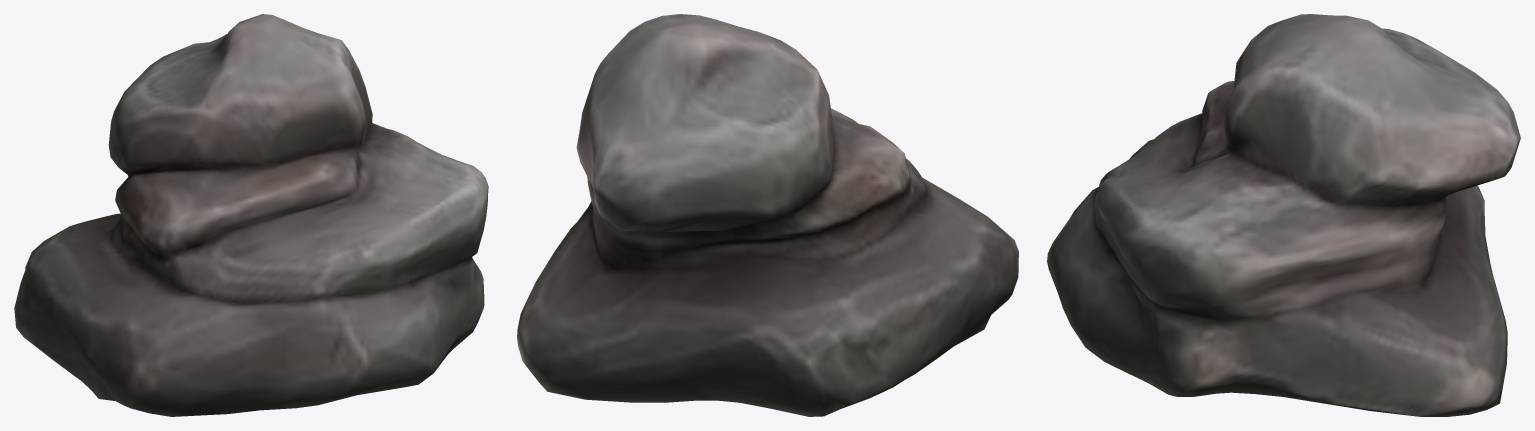
Rendered from sp-fels-4.glb.
3 renders of one model, left to right at view 1: azimuth 30°, elevation 25°; view 2: azimuth 150°, elevation 25°; view 3: azimuth 270°, elevation 25°, orthographic. The views are drawn at different scales.
Visible parts, largest first — view 1: sp-fels-4; view 2: sp-fels-4; view 3: sp-fels-4.
Boxes of the visible parts, left/top/right/bottom form: sp-fels-4: left=14, top=14, right=488, bottom=416; sp-fels-4: left=517, top=14, right=1018, bottom=416; sp-fels-4: left=1047, top=14, right=1520, bottom=416.
Size of the model in its own units: 3.51 by 2.76 by 3.41.
Materials: 1 (1 with a texture image).
